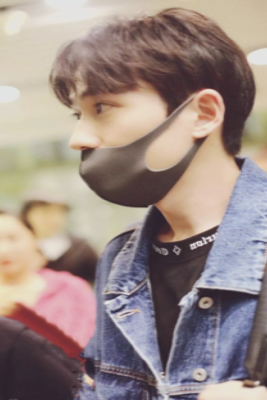mask_weared_incorrect: (68, 97, 195, 207)
